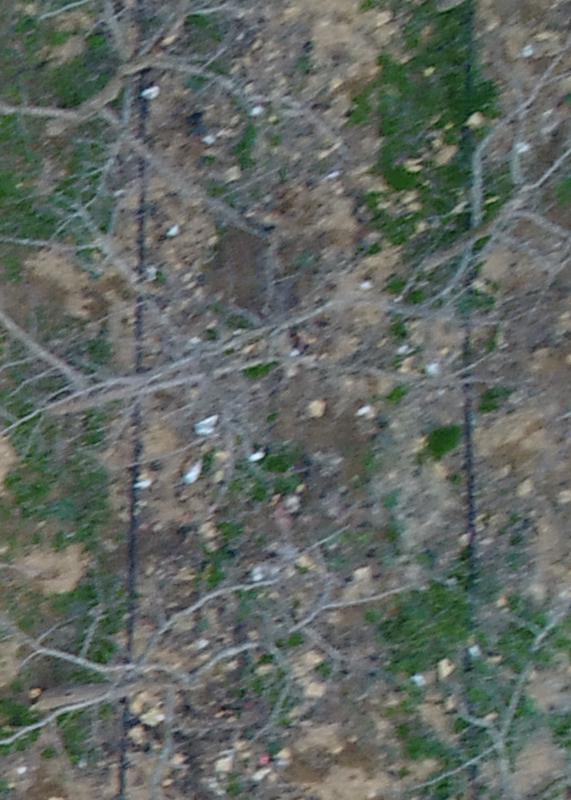apple: (10, 197, 526, 490), (10, 505, 431, 790), (10, 10, 358, 261)
